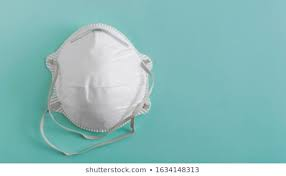flumask: (51, 30, 142, 132)
